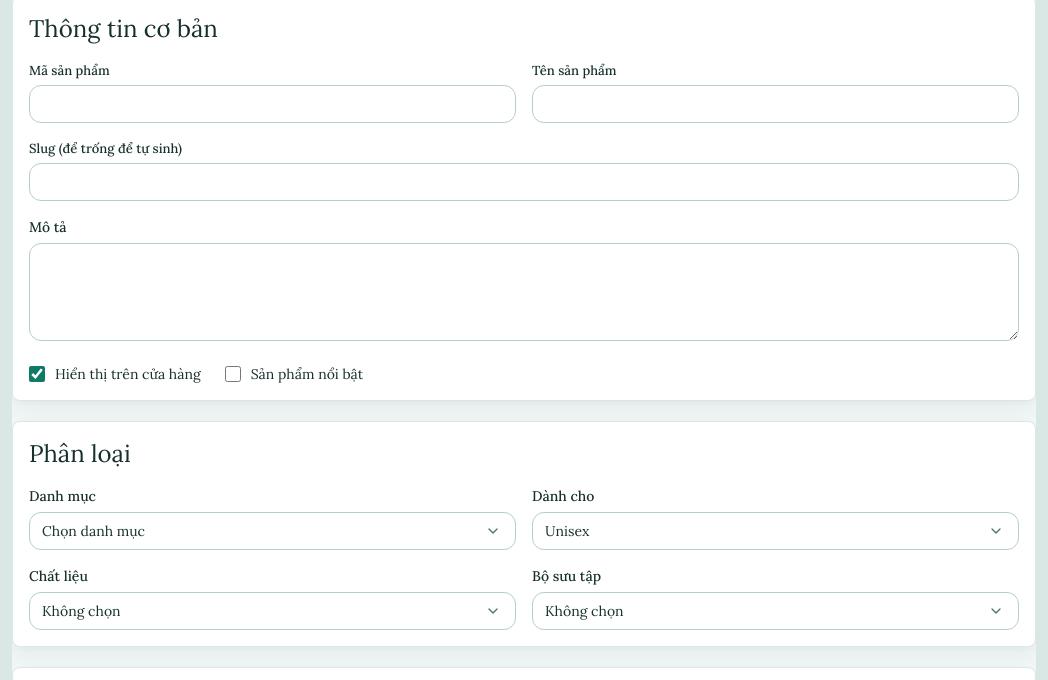
Test: ProductForm (tạo mới) › 409 PRODUCT_CODE_ALREADY_EXISTS gắn vào ô Mã sản phẩm
Type "LG-001" into the field labelled "Mã sản phẩm" at point(272, 104), box [29,85,516,123]
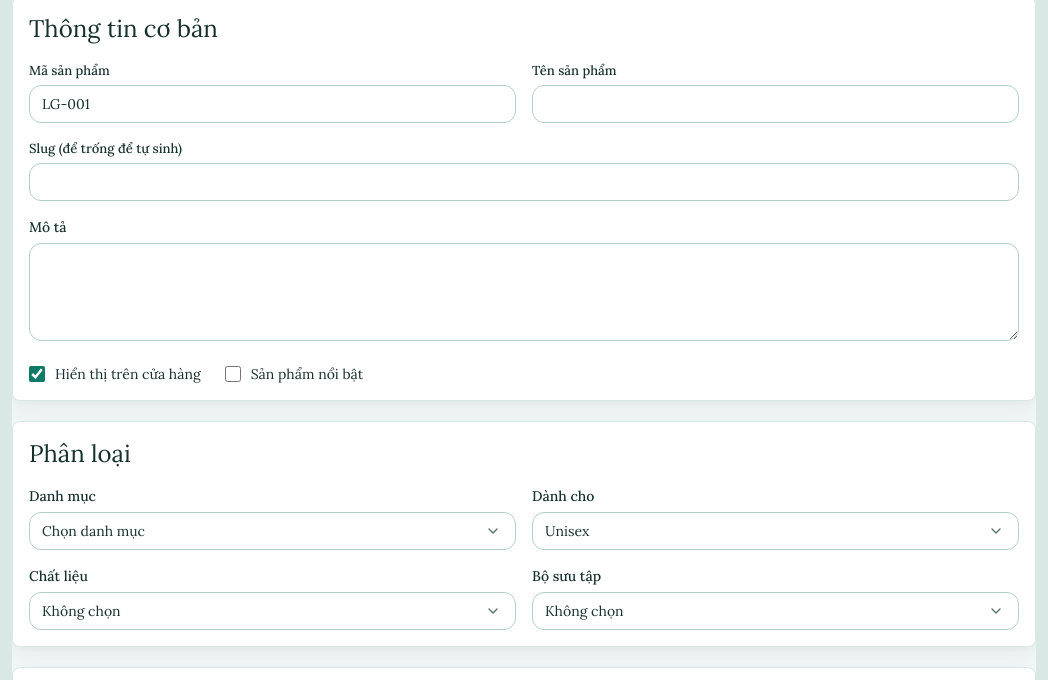
Type "Nhẫn kim cương" into the field labelled "Tên sản phẩm" at point(776, 104), box [532,85,1019,123]
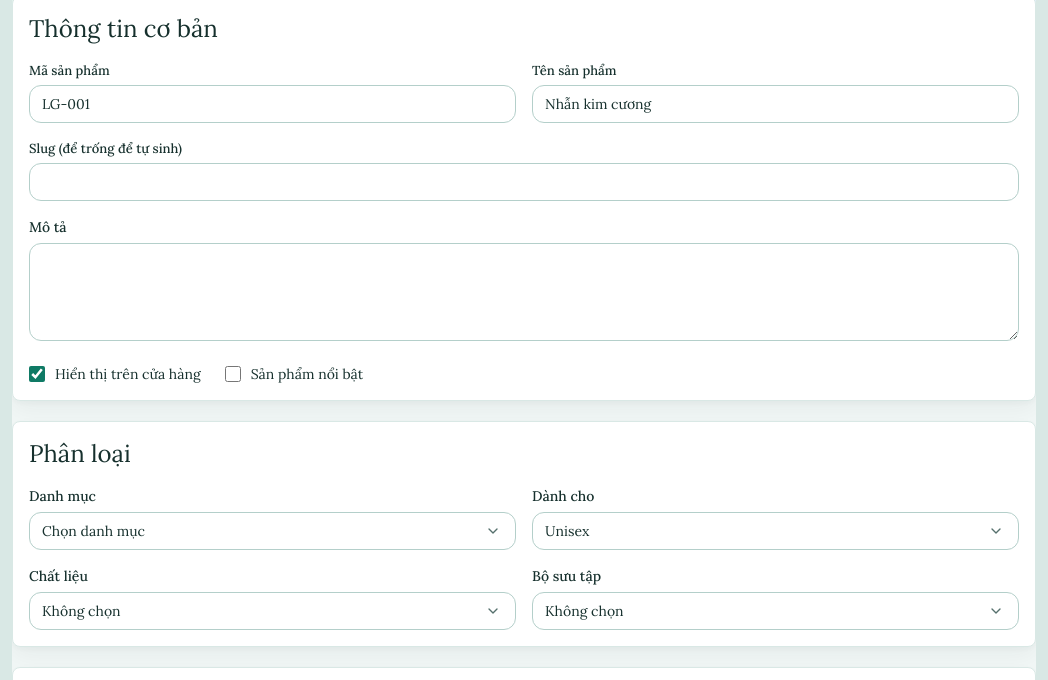
Select "Nhẫn" in the dropdown labelled "Danh mục" at point(272, 530), box [29,512,516,550]
(page scrolled)
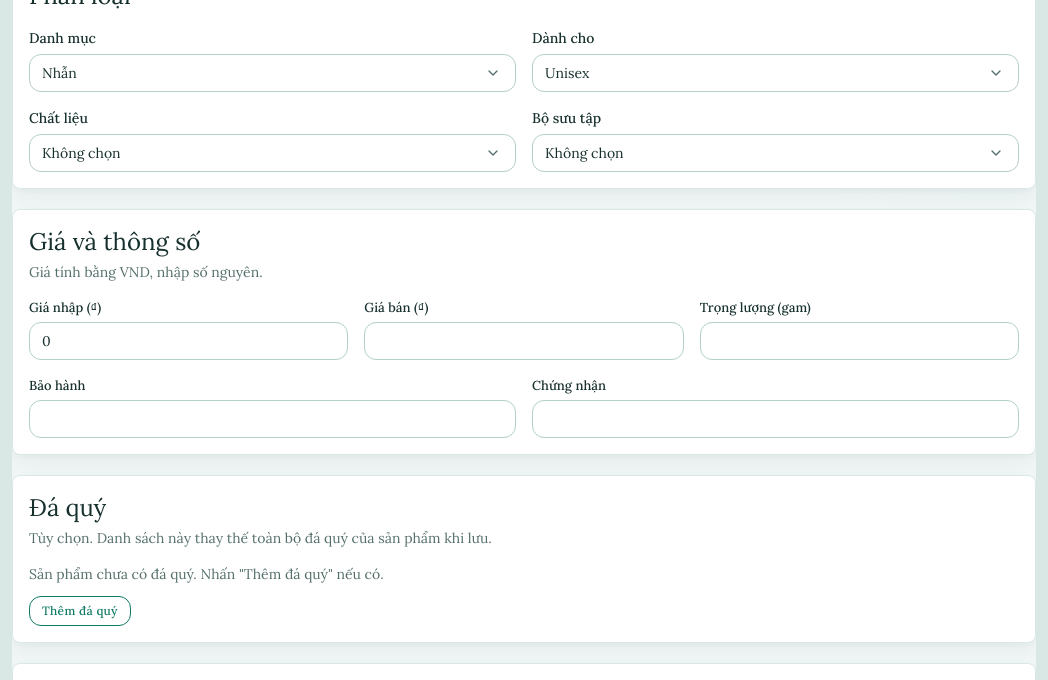
Type "1000000" into the field labelled "Giá bán (₫)" at point(524, 341), box [364,322,684,360]
(page scrolled)
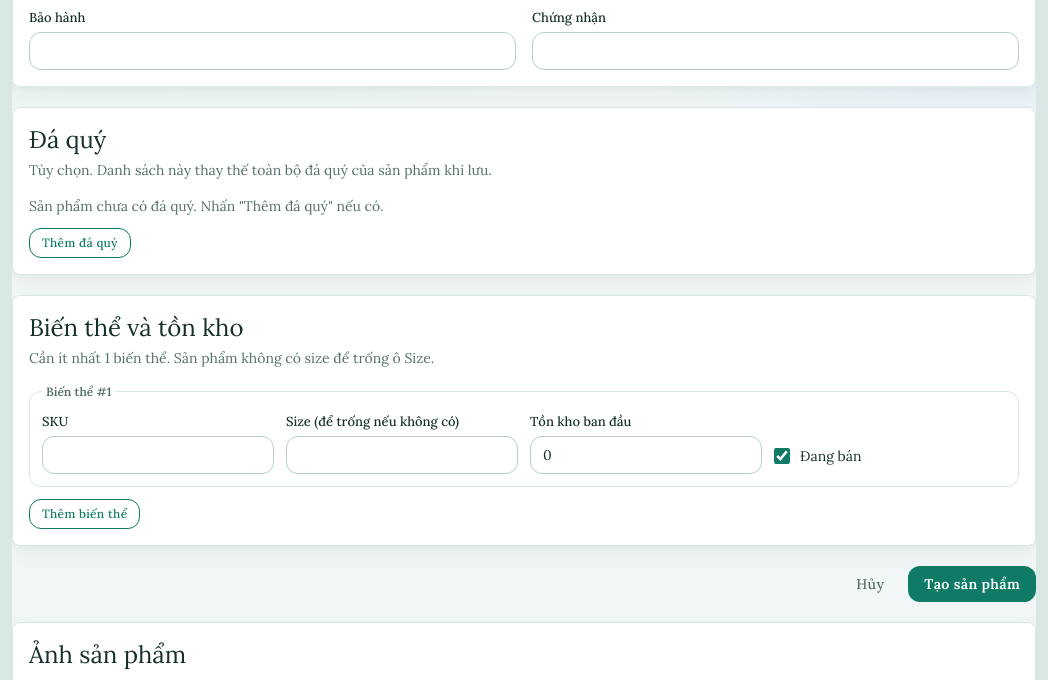
Type "LG-001-12" into the field labelled "SKU" at point(158, 455), box [42,436,274,474]
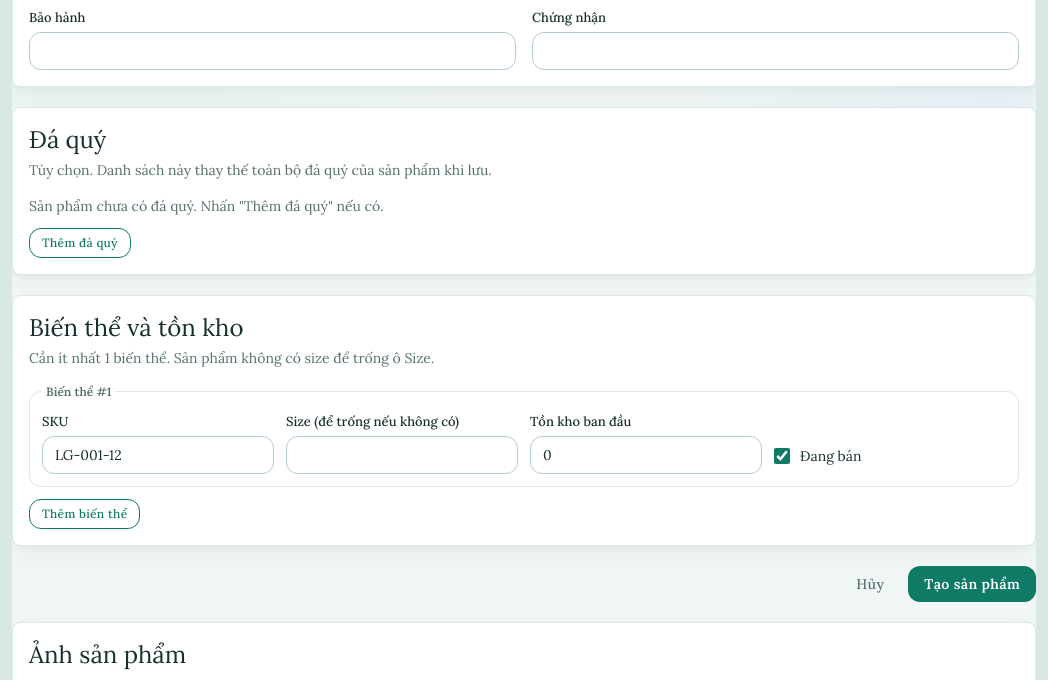
Click the button "Tạo sản phẩm" at point(972, 584), box [908,566,1036,602]
(page scrolled)
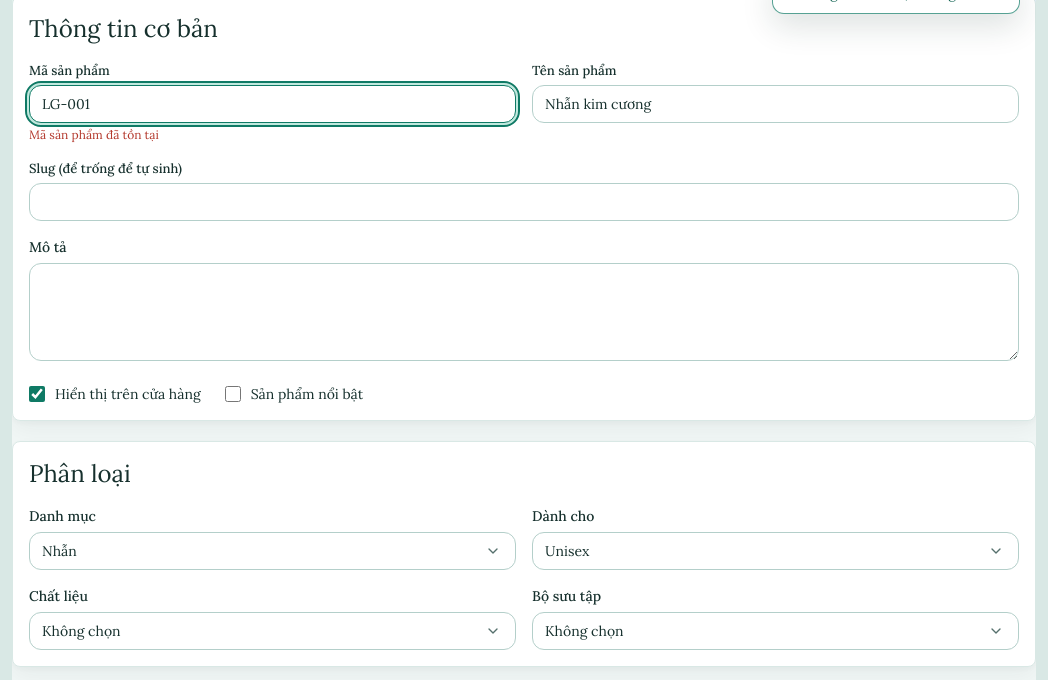
Expected: the text "Mã sản phẩm đã tồn tại" is shown, [29,127,159,142]
